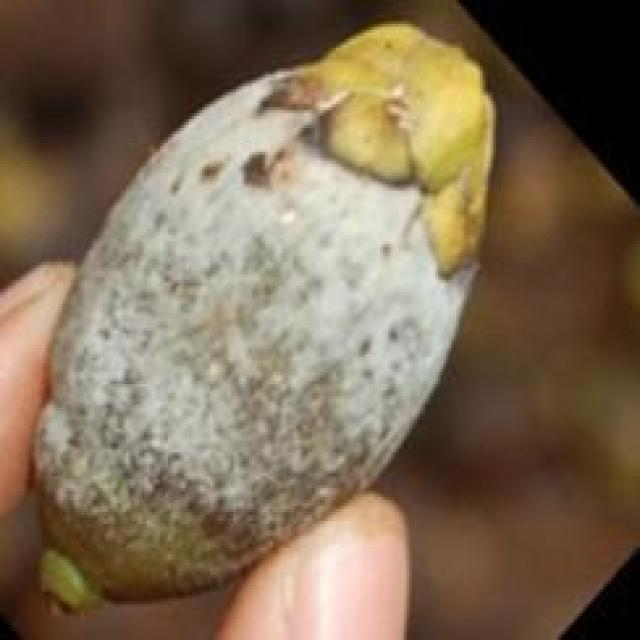damaged: (31, 21, 496, 625)
